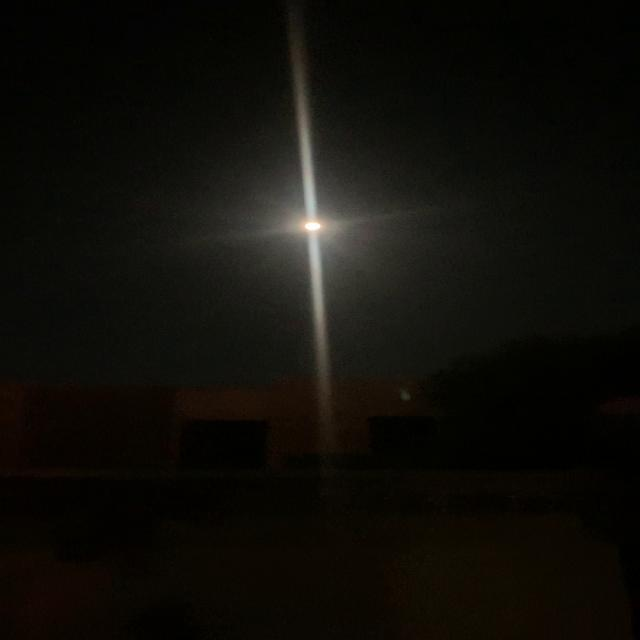moon: (294, 214, 338, 241)
